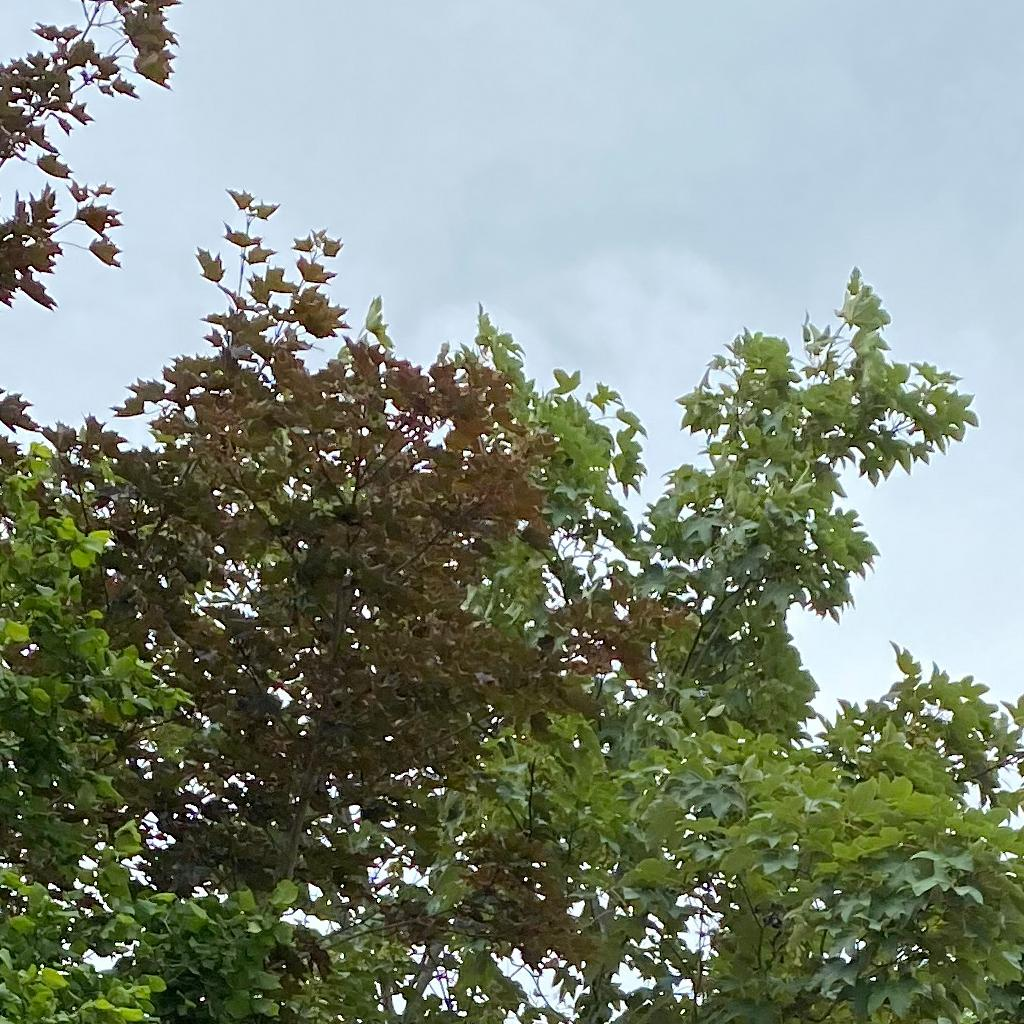tree: (1, 266, 1024, 1024), (1, 1, 696, 1006)
